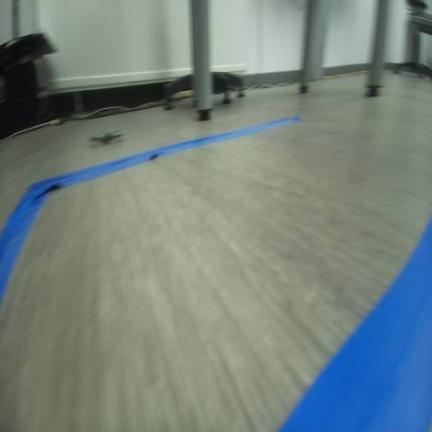place: (0, 113, 431, 431)
